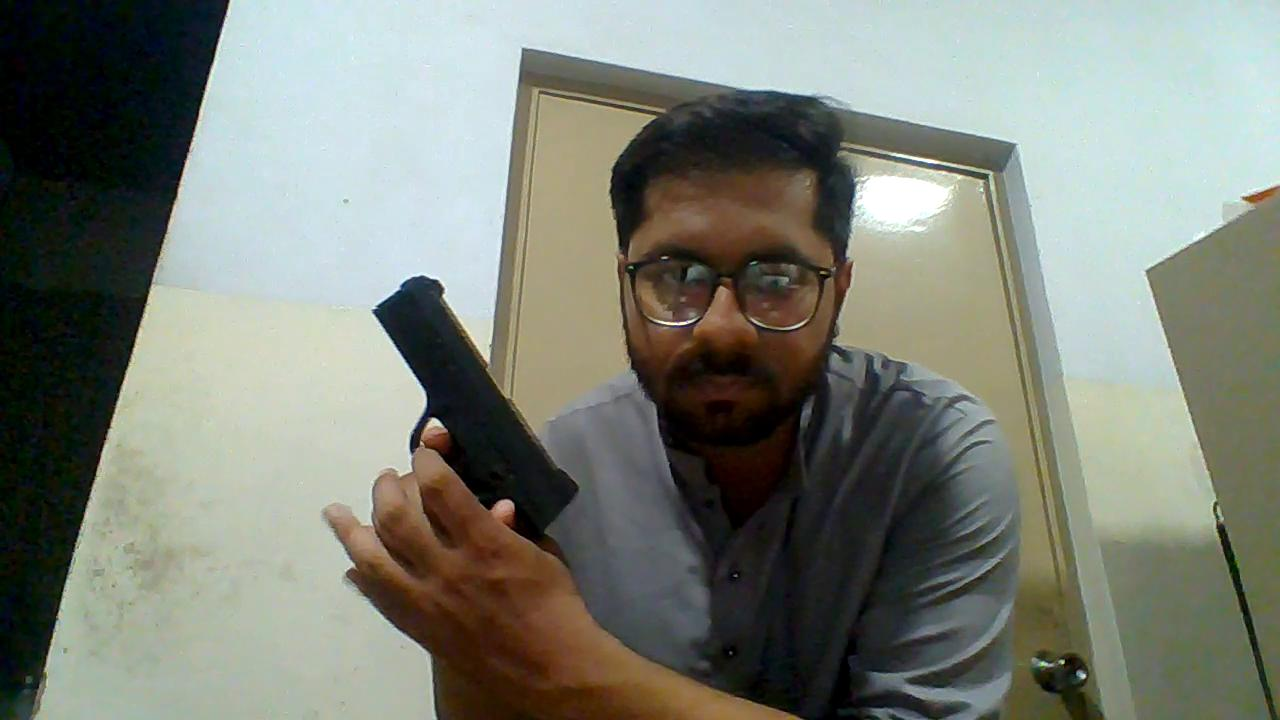criminal: (321, 89, 1019, 720)
weapon: (373, 273, 582, 548)
